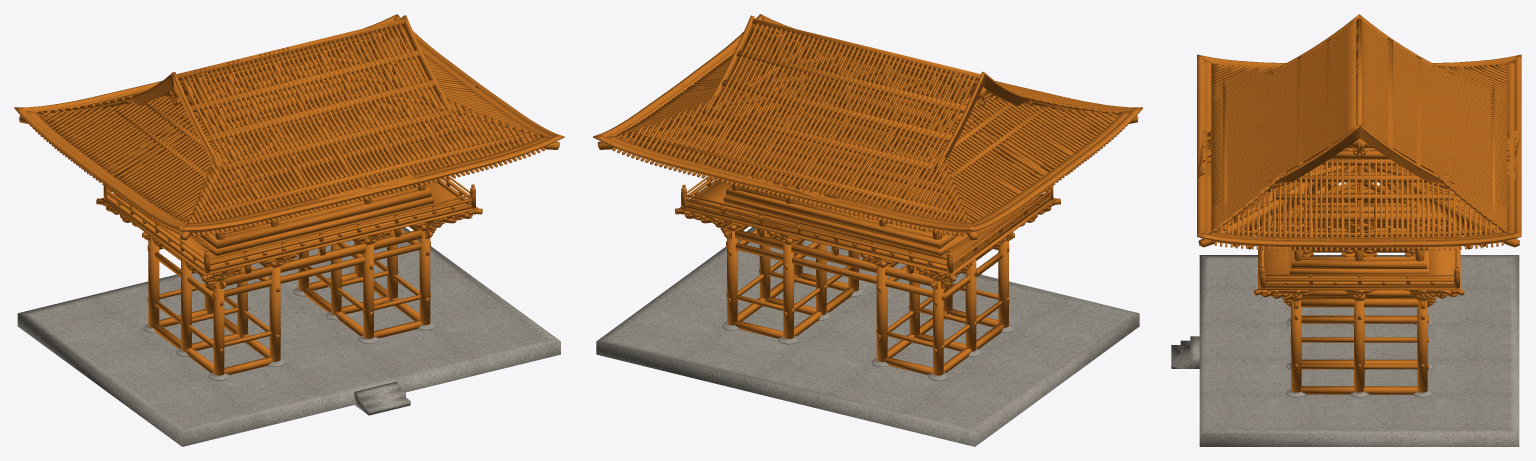
The model's file is building_full.glb.
3 renders of one model, left to right at view 1: azimuth 30°, elevation 25°; view 2: azimuth 150°, elevation 25°; view 3: azimuth 270°, elevation 25°, orthographic. The views are drawn at different scales.
Visible parts, largest first — view 1: full_building.009, full_building.001, full_building.006, full_building.002, full_building.003, full_building.004, full_building.005; view 2: full_building.009, full_building.001, full_building.006, full_building.002, full_building.003, full_building.004, full_building.005; view 3: full_building.009, full_building.001, full_building.006, full_building.002, full_building.003, full_building.004, full_building.005, full_building.008, full_building.007.
Boxes of the visible parts, x1,y1,x2,y2 form: full_building.009: [14, 14, 564, 240]; full_building.001: [17, 227, 560, 446]; full_building.006: [100, 177, 478, 275]; full_building.002: [143, 210, 435, 380]; full_building.003: [147, 253, 430, 374]; full_building.004: [142, 194, 436, 306]; full_building.005: [96, 187, 482, 282]; full_building.009: [593, 14, 1142, 240]; full_building.001: [596, 227, 1139, 446]; full_building.006: [679, 165, 1056, 275]; full_building.002: [722, 210, 1013, 380]; full_building.003: [726, 253, 1009, 374]; full_building.004: [720, 194, 1014, 306]; full_building.005: [675, 187, 1060, 282]; full_building.009: [1197, 14, 1521, 251]; full_building.001: [1171, 255, 1519, 446]; full_building.006: [1258, 230, 1460, 289]; full_building.002: [1286, 252, 1432, 397]; full_building.003: [1290, 290, 1428, 394]; full_building.004: [1283, 228, 1435, 323]; full_building.005: [1254, 182, 1464, 300]; full_building.008: [1265, 148, 1452, 237]; full_building.007: [1291, 237, 1427, 261].
Bounding box in the file's own units: 5.4 × 4 × 4.41.
Materials: 2 (1 with a texture image).
